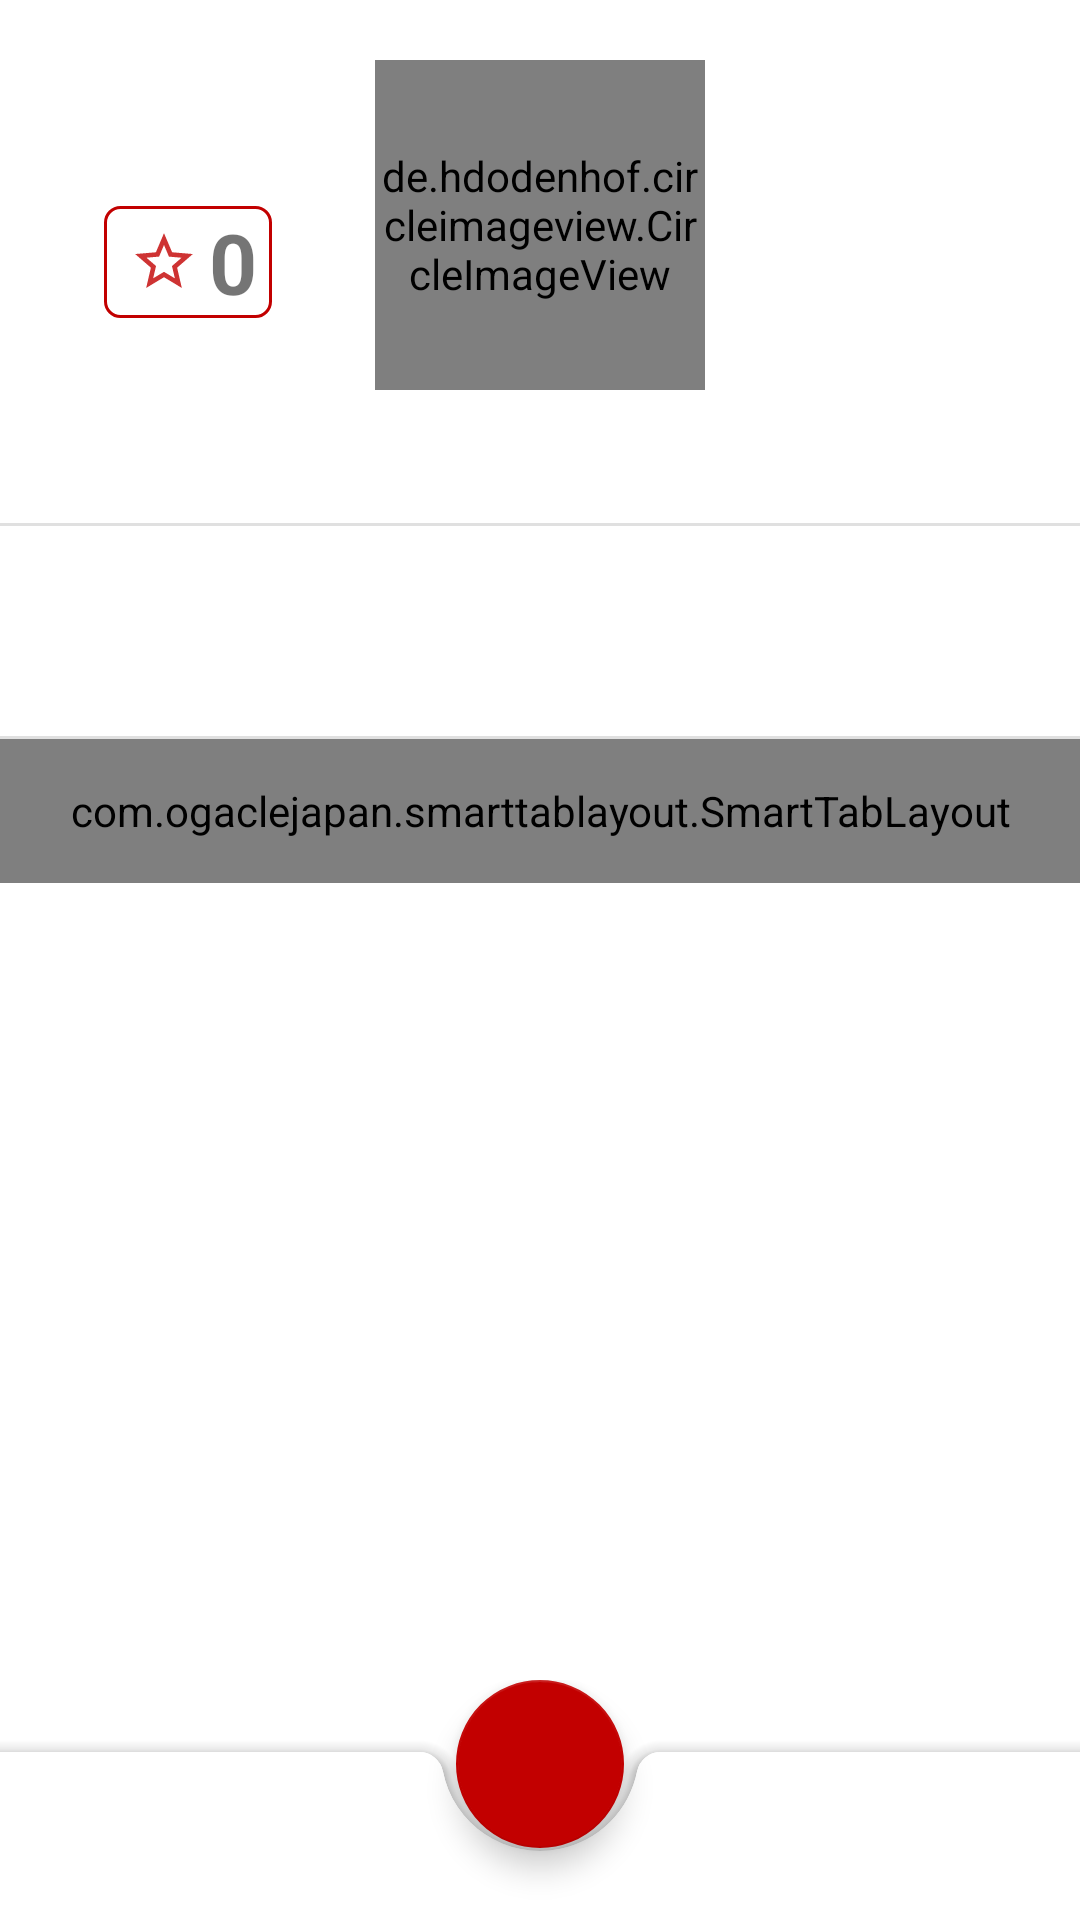

Named icons in this screenshot (1080*1920) and their centers, (x,y):
star: (164,260)
